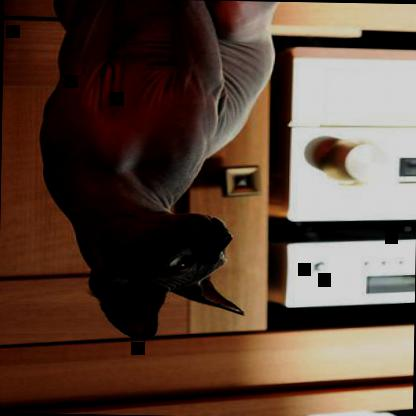cat: (32, 0, 283, 344)
